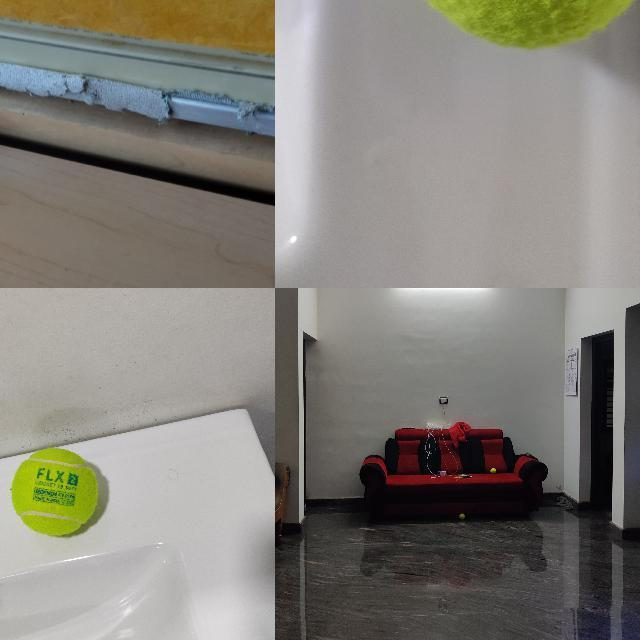tennis-ball: (11, 448, 99, 537), (490, 467, 496, 473), (459, 513, 465, 519)
